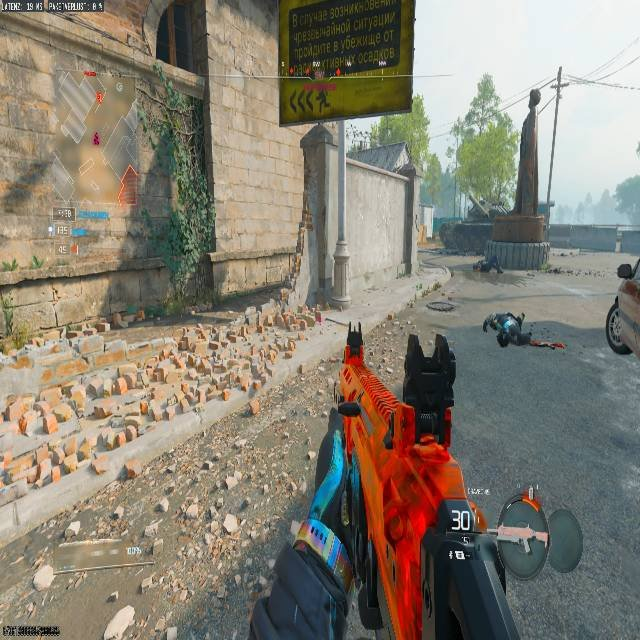head: (497, 330, 510, 347)
